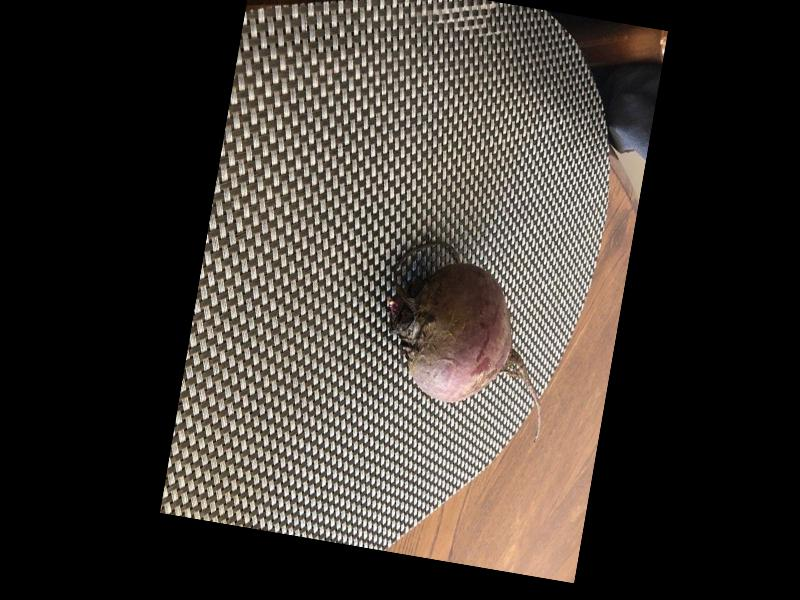Beet: (368, 232, 568, 440)
